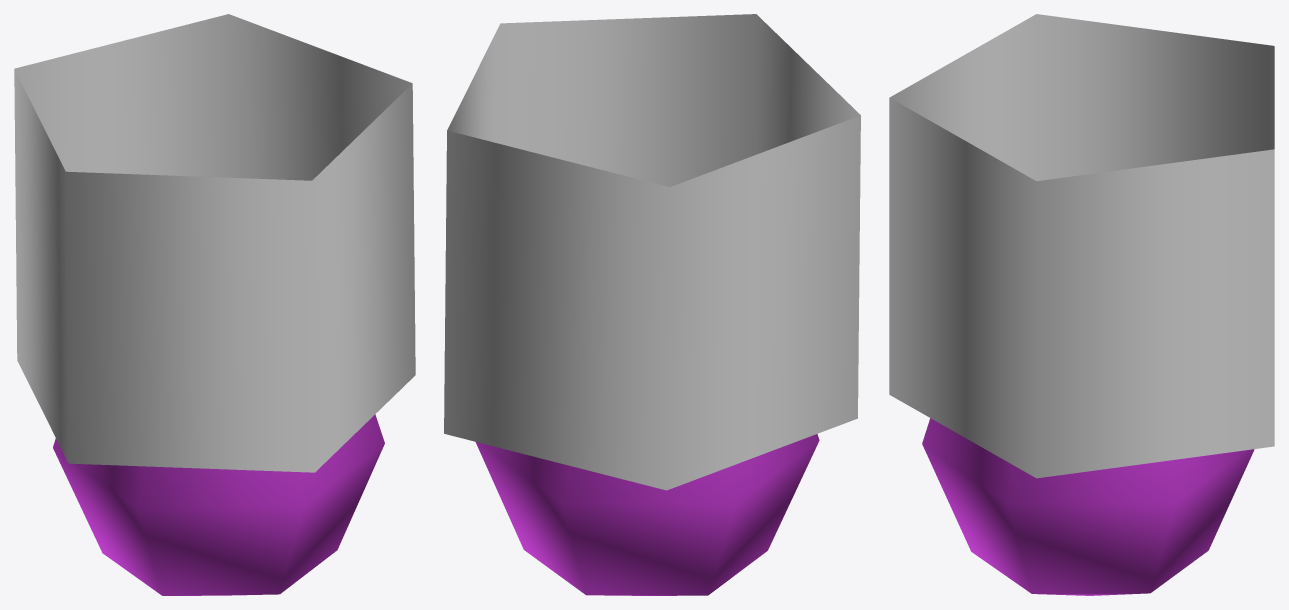
File: ring_intermediate.gltf
3 views of the same model, side by side, from view 1: azimuth 30°, elevation 25°; view 2: azimuth 150°, elevation 25°; view 3: azimuth 270°, elevation 25° (orthographic). The views are drawn at different scales.
Parts seen in each view (by area): view 1: LEFT_RING_INTERMEDIATE; view 2: LEFT_RING_INTERMEDIATE; view 3: LEFT_RING_INTERMEDIATE.
Part boxes in pixels (x1,y1,x2,y2): LEFT_RING_INTERMEDIATE: (14,14,415,595); LEFT_RING_INTERMEDIATE: (444,14,860,595); LEFT_RING_INTERMEDIATE: (889,14,1274,595).
Bounding box in the file's own units: 0.0258 × 0.0347 × 0.0244.
